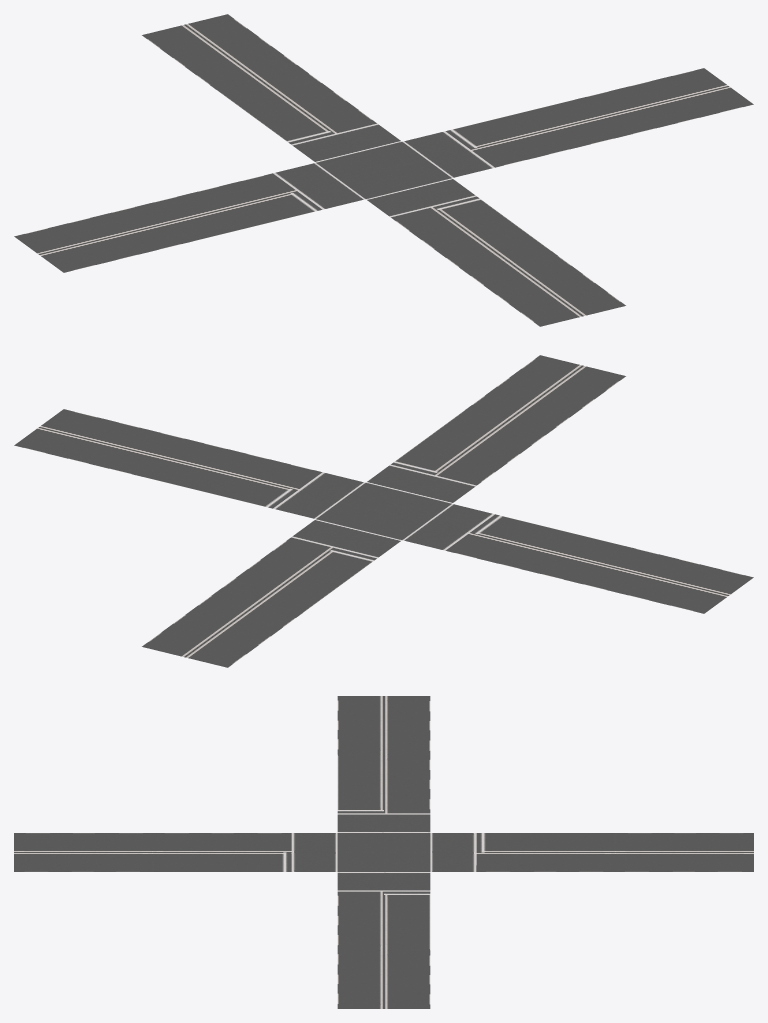
The model's file is Crossroad (5).FBX.
3 views of the same model, one above another, from view 1: azimuth 30°, elevation 25°; view 2: azimuth 150°, elevation 25°; view 3: azimuth 270°, elevation 25° (orthographic). The views are drawn at different scales.
Visible parts, largest first — view 1: Crossroad; view 2: Crossroad; view 3: Crossroad.
Part boxes in pixels (x1,y1,x2,y2): Crossroad: (14, 14, 753, 326); Crossroad: (14, 355, 753, 667); Crossroad: (14, 696, 753, 1008).
Size of the model in its own units: 2205 by 4.02e-05 by 2205.
4 materials, 4 textured.
